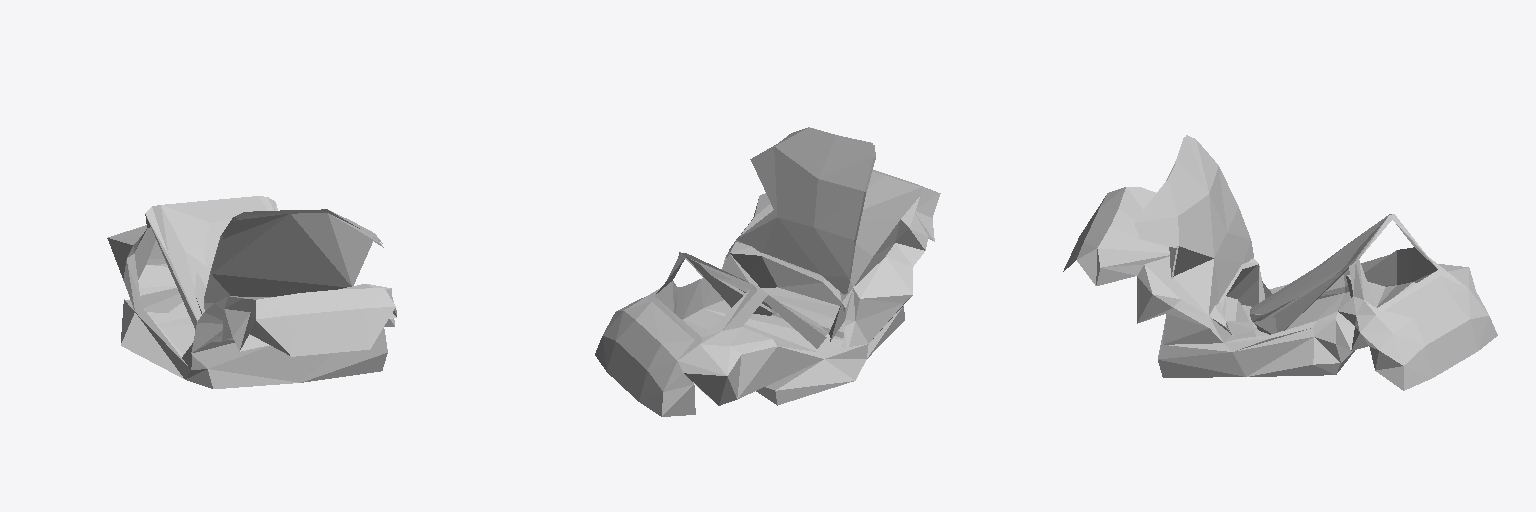
File: car1_0002.obj
3 views of the same model, side by side, from view 1: azimuth 30°, elevation 25°; view 2: azimuth 150°, elevation 25°; view 3: azimuth 270°, elevation 25° (orthographic).
Parts seen in each view (by area): view 1: Car1_1; view 2: Car1_1; view 3: Car1_1.
Part boxes in pixels (left/top/right/bottom): Car1_1: left=107, top=196, right=396, bottom=388; Car1_1: left=595, top=127, right=940, bottom=416; Car1_1: left=1063, top=135, right=1497, bottom=390.
Size of the model in its own units: 5.35 by 4.26 by 9.06.